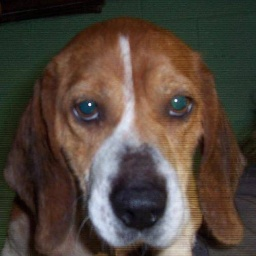dog: (7, 17, 242, 256)
